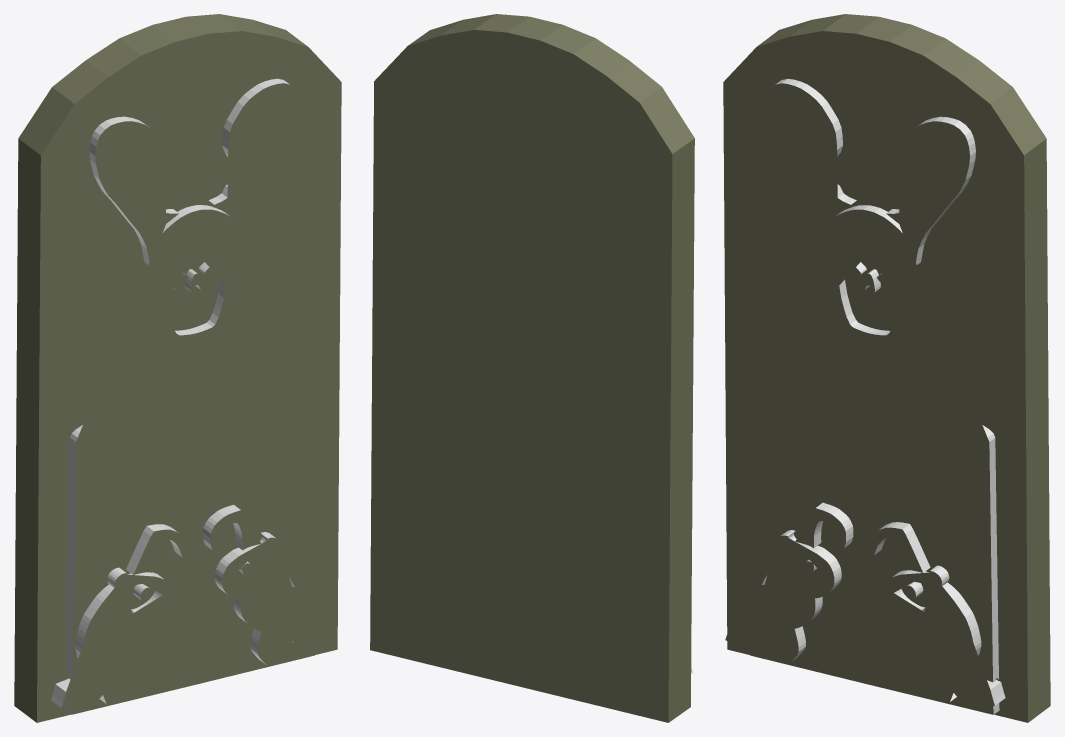
Rendered from seal.fbx.
3 views of the same model, side by side, from view 1: azimuth 30°, elevation 25°; view 2: azimuth 150°, elevation 25°; view 3: azimuth 330°, elevation 25° (orthographic).
Parts seen in each view (by area): view 1: Plane.003; view 2: Plane.003; view 3: Plane.003.
Part boxes in pixels (left/top/right/bottom): Plane.003: left=14, top=14, right=341, bottom=722; Plane.003: left=370, top=14, right=694, bottom=722; Plane.003: left=723, top=14, right=1050, bottom=722.
Bounding box in the file's own units: 86.16 × 179 × 18.4.
